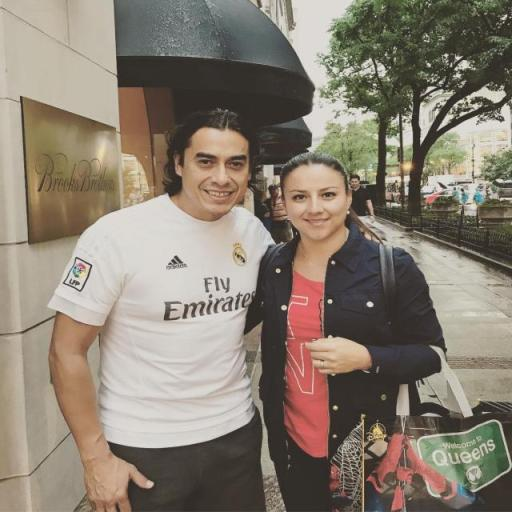Emirates: (159, 274, 257, 324)
